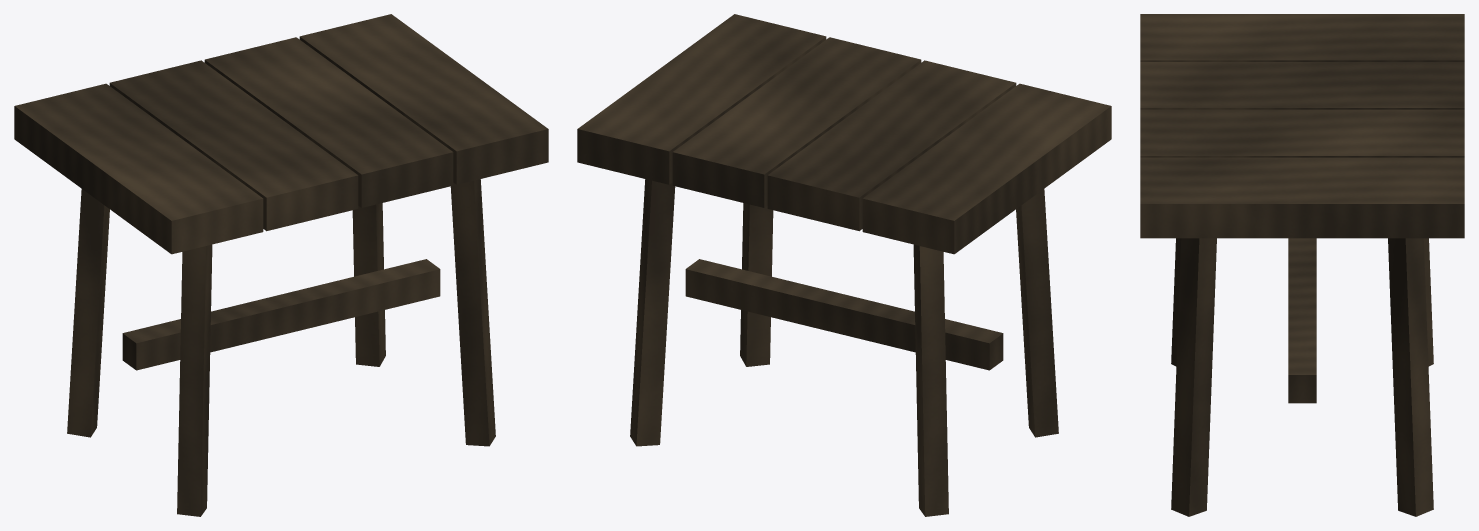
The model's file is Table.glb.
3 renders of one model, left to right at view 1: azimuth 30°, elevation 25°; view 2: azimuth 150°, elevation 25°; view 3: azimuth 270°, elevation 25°, orthographic. The views are drawn at different scales.
Parts seen in each view (by area): view 1: Table; view 2: Table; view 3: Table.
Boxes of the visible parts, x1,y1,x2,y2 form: Table: [14, 14, 548, 516]; Table: [577, 14, 1111, 516]; Table: [1140, 14, 1464, 516].
Bounding box in the file's own units: 0.942 × 0.7616 × 0.68.
Materials: 1 (1 with a texture image).
